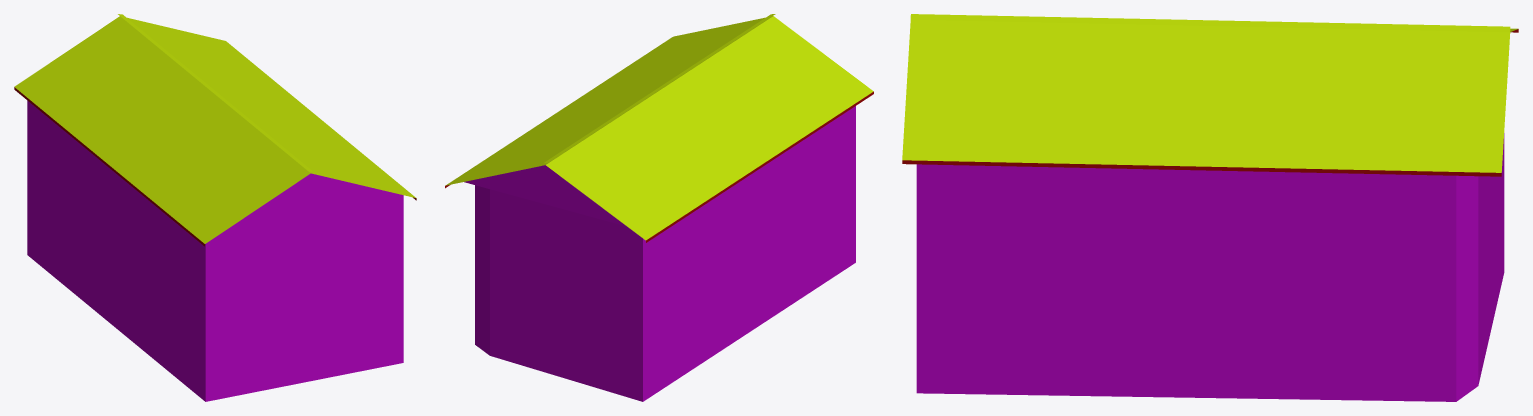
Rendered from vzc_53.glb.
The picture shows the model from 3 angles, left to right: view 1: azimuth 30°, elevation 25°; view 2: azimuth 150°, elevation 25°; view 3: azimuth 270°, elevation 25°; orthographic projection. The views are drawn at different scales.
Visible parts, largest first — view 1: vzc_53; view 2: vzc_53; view 3: vzc_53.
Boxes of the visible parts, x1,y1,x2,y2 form: vzc_53: (14,14,416,401); vzc_53: (445,14,873,401); vzc_53: (902,14,1518,401).
Size of the model in its own units: 10.66 by 9.86 by 17.72.
